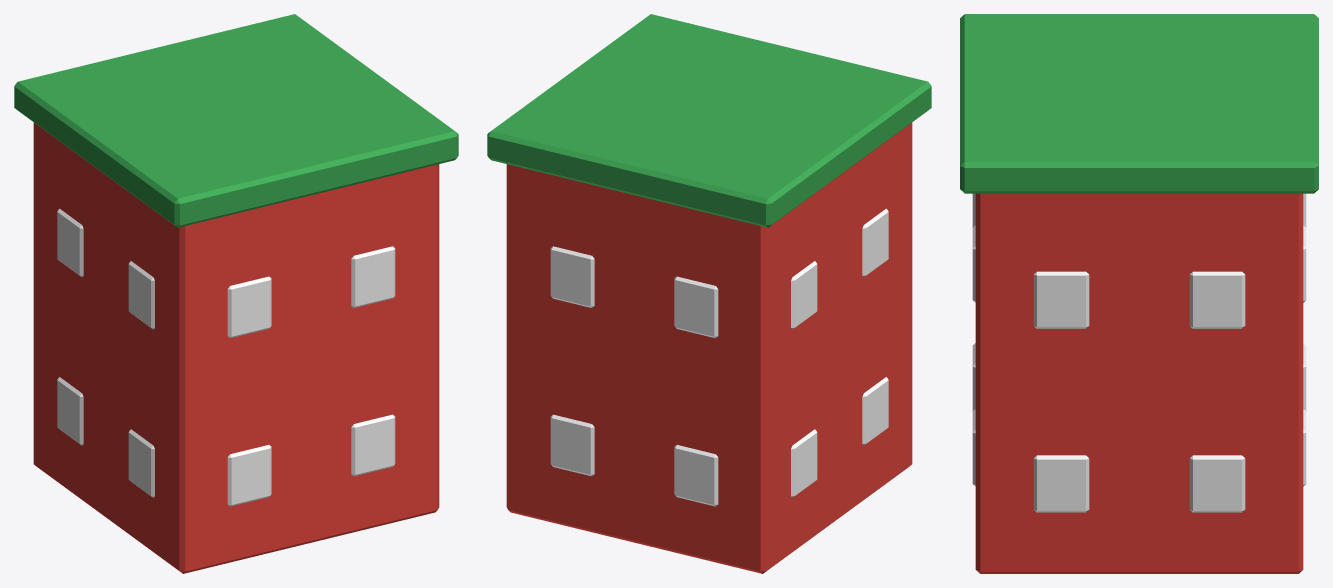
Rendered from building_small.glb.
3 renders of one model, left to right at view 1: azimuth 30°, elevation 25°; view 2: azimuth 150°, elevation 25°; view 3: azimuth 270°, elevation 25°, orthographic. The views are drawn at different scales.
Parts seen in each view (by area): view 1: building_small; view 2: building_small; view 3: building_small.
Part boxes in pixels (x1,y1,x2,y2): building_small: [14, 14, 458, 573]; building_small: [487, 14, 931, 573]; building_small: [960, 14, 1318, 573].
Bounding box in the file's own units: 0.46 × 0.5925 × 0.46.
